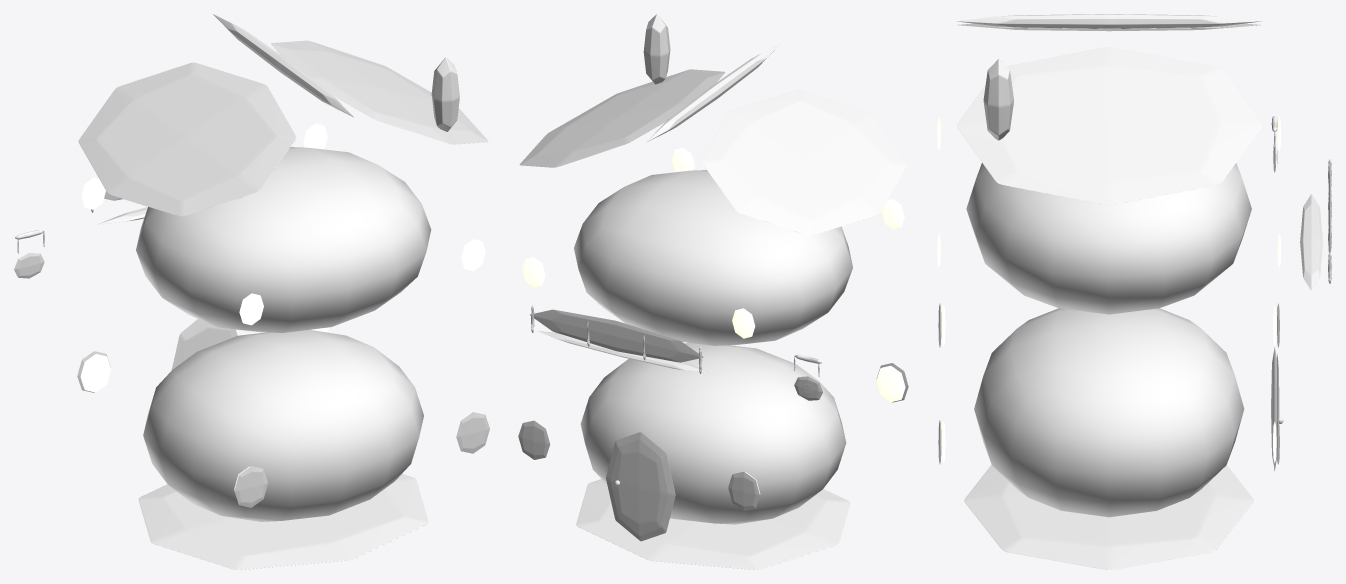
File: building_cache_r2_v3.glb
3 renders of one model, left to right at view 1: azimuth 30°, elevation 25°; view 2: azimuth 150°, elevation 25°; view 3: azimuth 270°, elevation 25°, orthographic. The views are drawn at different scales.
Parts seen in each view (by area): view 1: base, upper, roof_l.001, foundation.002, roof_r.001, apex.001, chimney.002, door_frame.002, win_1_frame_2, win_1_frame_3, win_1_0, win_2_3 (+3 smaller); view 2: upper, base, roof_l.001, foundation.002, roof_r.001, door.001, balcony_rail, apex.001, door_frame.002, chimney.002, balcony, win_1_frame_0 (+5 smaller); view 3: base, roof_r.001, upper, foundation.002, apex.001, chimney.002, balcony, roof_l.001, door_frame.002.
Boxes of the visible parts, <box> form: base: <box>143,329,423,521</box>; upper: <box>136,147,431,332</box>; roof_l.001: <box>78,62,296,216</box>; foundation.002: <box>138,474,428,569</box>; roof_r.001: <box>271,40,488,144</box>; apex.001: <box>213,14,353,117</box>; chimney.002: <box>431,57,459,131</box>; door_frame.002: <box>171,319,237,369</box>; win_1_frame_2: <box>234,466,267,507</box>; win_1_frame_3: <box>456,412,489,453</box>; win_1_0: <box>80,354,111,392</box>; win_2_3: <box>461,239,485,271</box>; upper: <box>574,170,852,345</box>; base: <box>580,342,846,524</box>; roof_l.001: <box>701,90,907,235</box>; foundation.002: <box>576,479,850,569</box>; roof_r.001: <box>519,69,725,167</box>; door.001: <box>610,439,668,535</box>; balcony_rail: <box>530,309,703,362</box>; apex.001: <box>647,44,779,141</box>; door_frame.002: <box>606,432,675,541</box>; chimney.002: <box>643,14,670,84</box>; balcony: <box>538,331,710,373</box>; win_1_frame_0: <box>728,471,759,511</box>; base: <box>974,308,1244,517</box>; roof_r.001: <box>957,47,1261,205</box>; upper: <box>966,163,1251,314</box>; foundation.002: <box>964,465,1253,569</box>; apex.001: <box>957,14,1261,28</box>; chimney.002: <box>983,59,1013,140</box>; balcony: <box>1300,194,1322,290</box>; roof_l.001: <box>957,23,1260,31</box>; door_frame.002: <box>1271,347,1276,470</box>.
Bounding box in the file's own units: 4.98 × 6.08 × 4.29.
